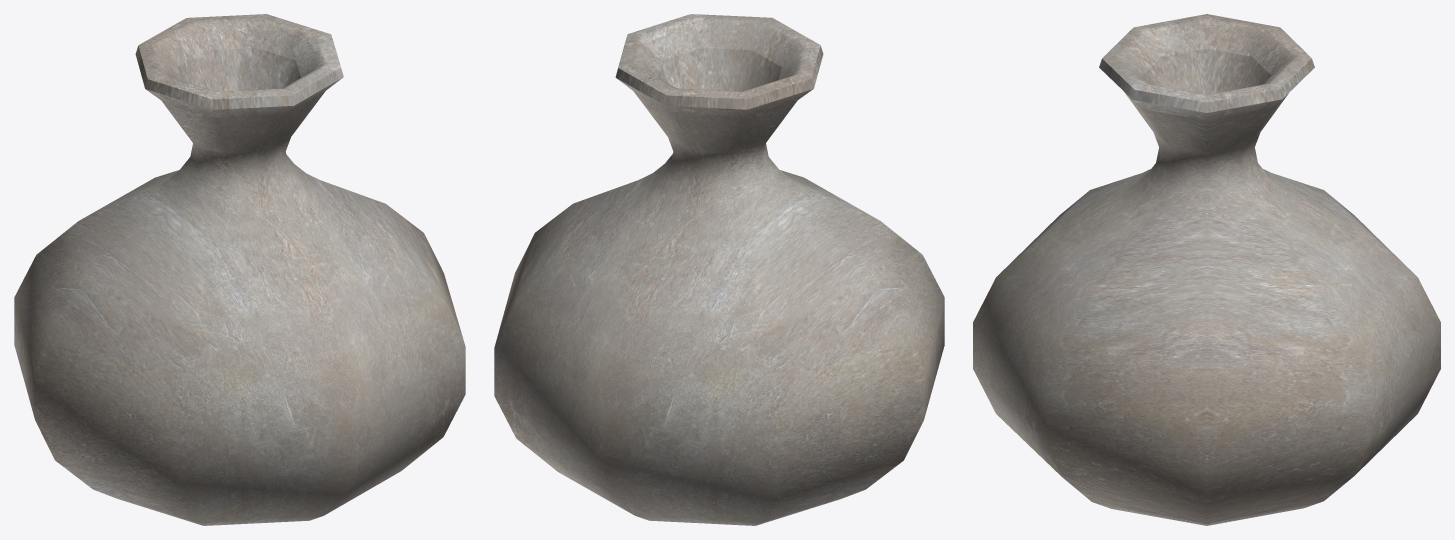
The model's file is ShortVase.fbx.
The picture shows the model from 3 angles, left to right: view 1: azimuth 30°, elevation 25°; view 2: azimuth 150°, elevation 25°; view 3: azimuth 270°, elevation 25°; orthographic projection.
Visible parts, largest first — view 1: ShortVase; view 2: ShortVase; view 3: ShortVase.
Part boxes in pixels (x1,y1,x2,y2): ShortVase: [14, 14, 465, 525]; ShortVase: [494, 14, 944, 525]; ShortVase: [973, 14, 1440, 525].
Bounding box in the file's own units: 87.39 × 86.8 × 87.39.
